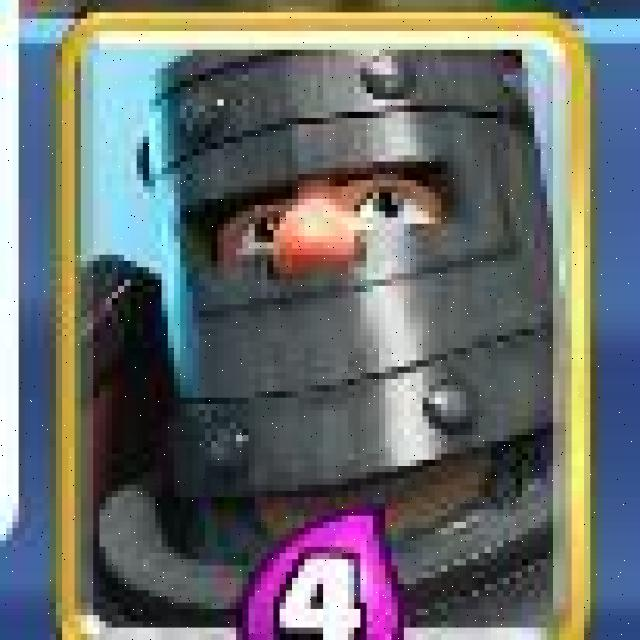Dark_Prince: (52, 3, 592, 640)
